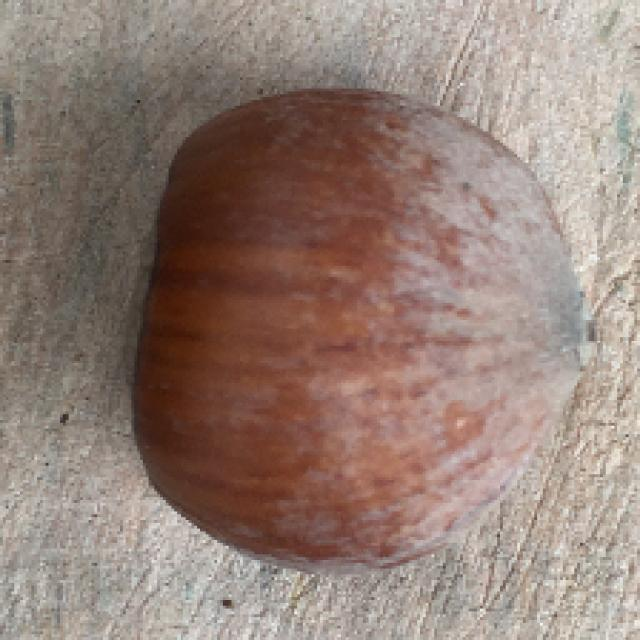qualityHazelnut: (120, 81, 590, 573)
